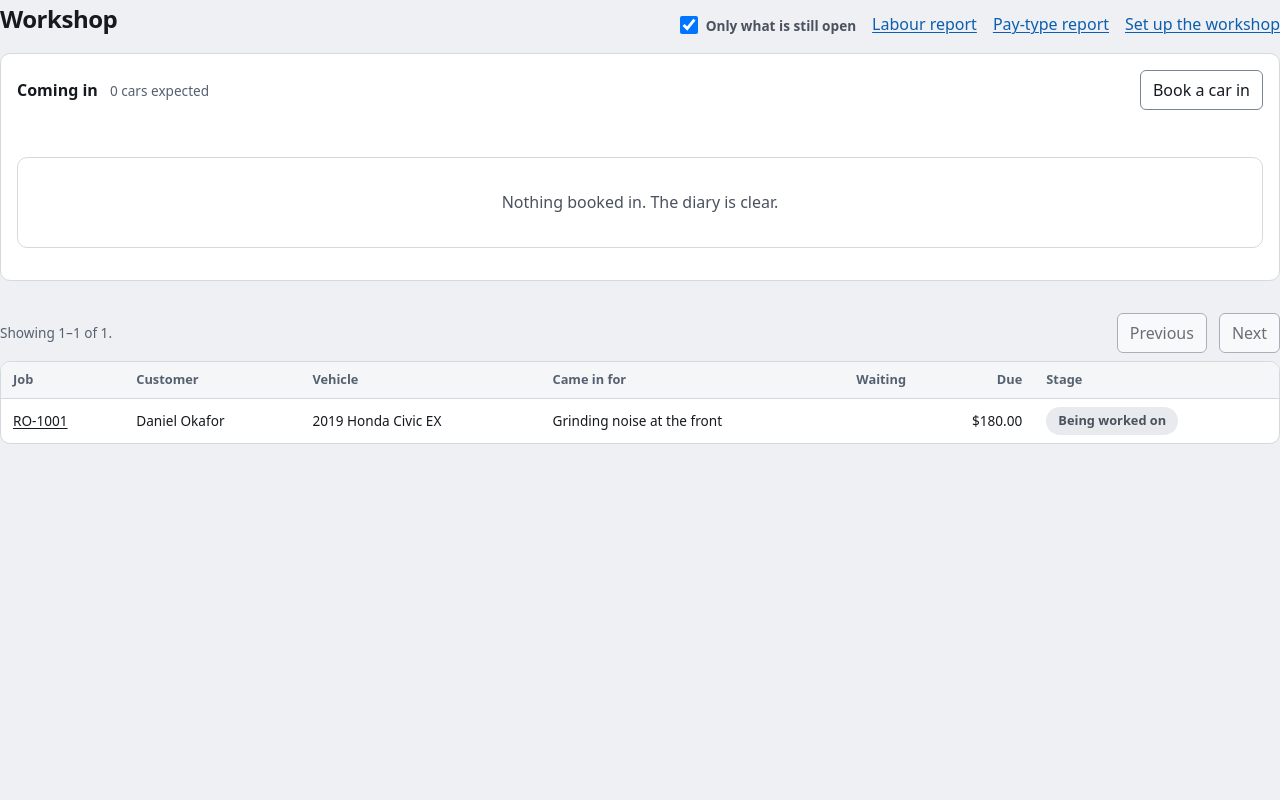
Test: one job › shows declined work at nothing rather than at what it would have cost
Click the button "RO-1001" at coordinates (40, 421), box [13, 409, 68, 433]
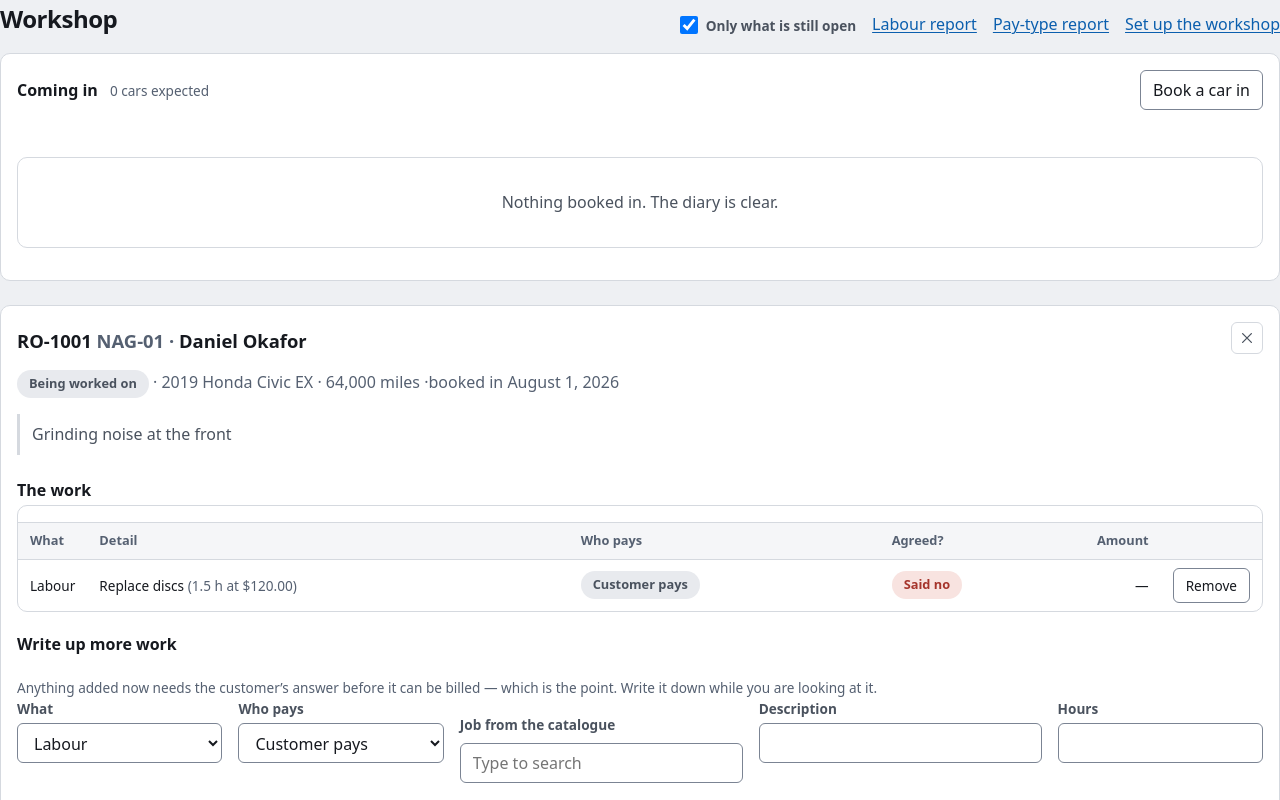
Now the text "Said no" is shown, box [892, 571, 962, 599]
Now the text "Replace discs" is shown, box [99, 576, 184, 595]
